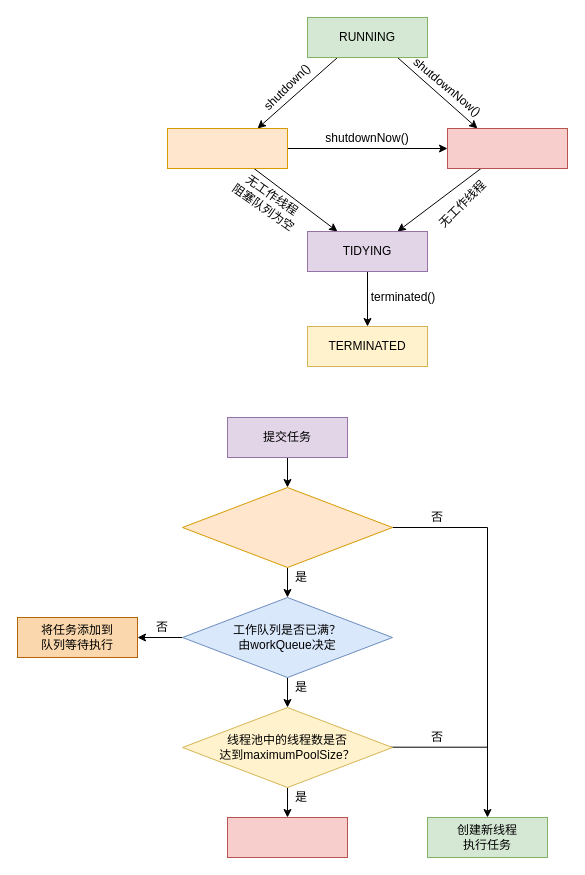
This 585x875 diagram has some shape labels left out. Each missing label, with the centre of its shape:
"SHUTDOWN" goes at [227,148].
"STOP" goes at [507,148].
"执行拒绝策略" goes at [287,837].
"线程池中的线程数 是否达到corePoolSize？" goes at [287,527].
